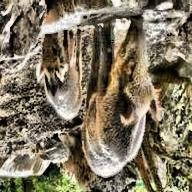boar: (72, 8, 160, 186), (42, 21, 87, 122)
